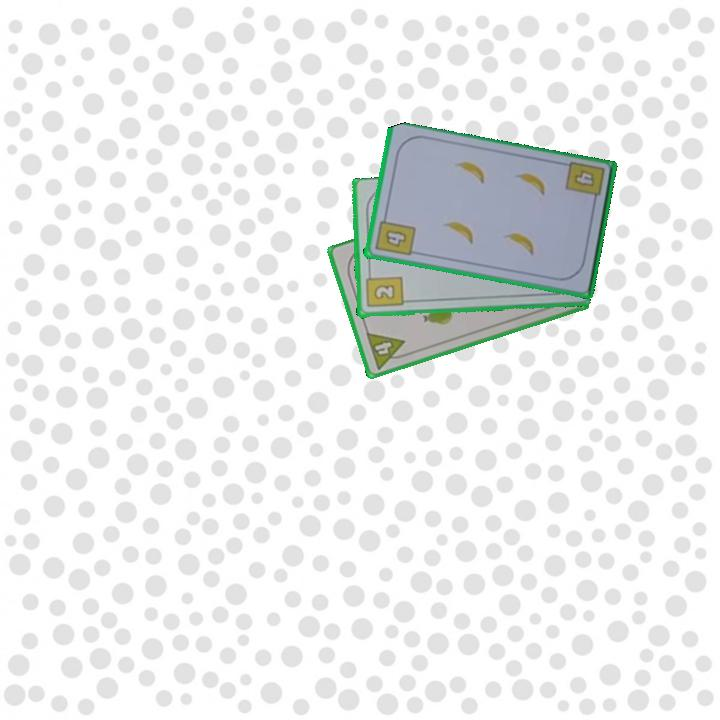2b: (362, 268, 405, 310)
4b: (371, 211, 417, 259), (570, 166, 596, 189)
4p: (362, 329, 411, 372)
